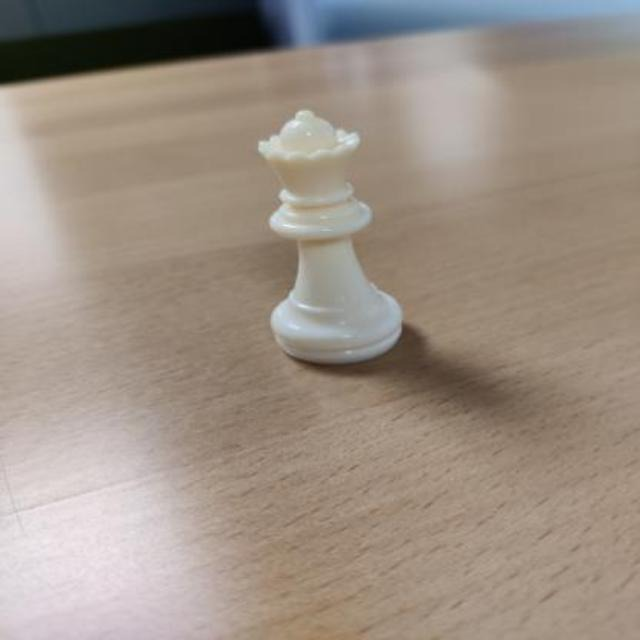white-queen: (257, 106, 405, 364)
